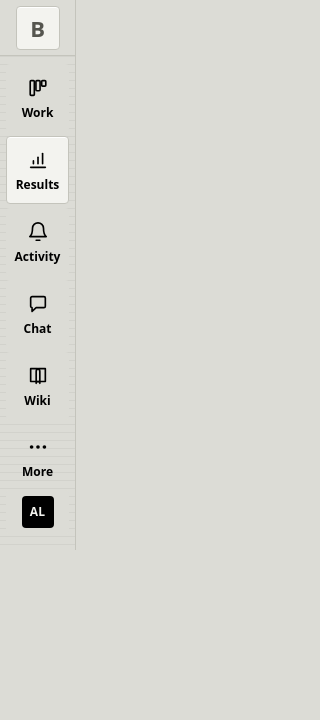
Test: More on a phone › opens every place in a wide window as a disclosure, and Escape on More folds them back without leaving the screen
Click the button "More". click: (38, 457)
box: [6,424,69,490]
(page scrolled)
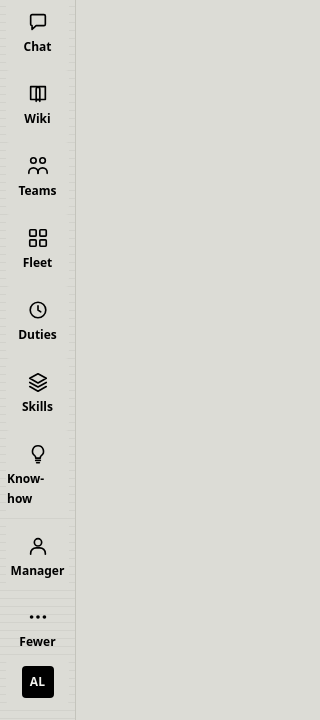
Check: the button "Fewer" is expanded
Check: the button "Fewer" is shown
Press Escape in the button "Fewer", box [6,594,69,660]
(page scrolled)
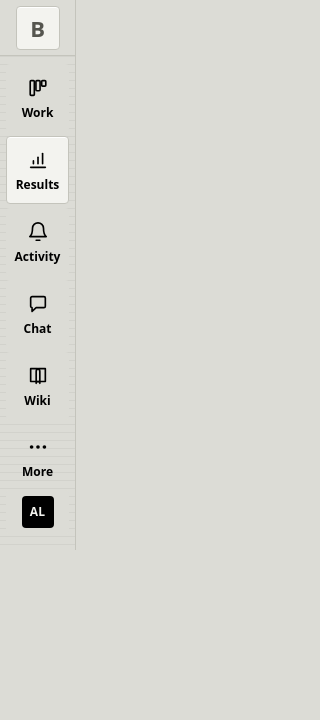
Check: the button "More" is collapsed, box [6,424,69,490]
